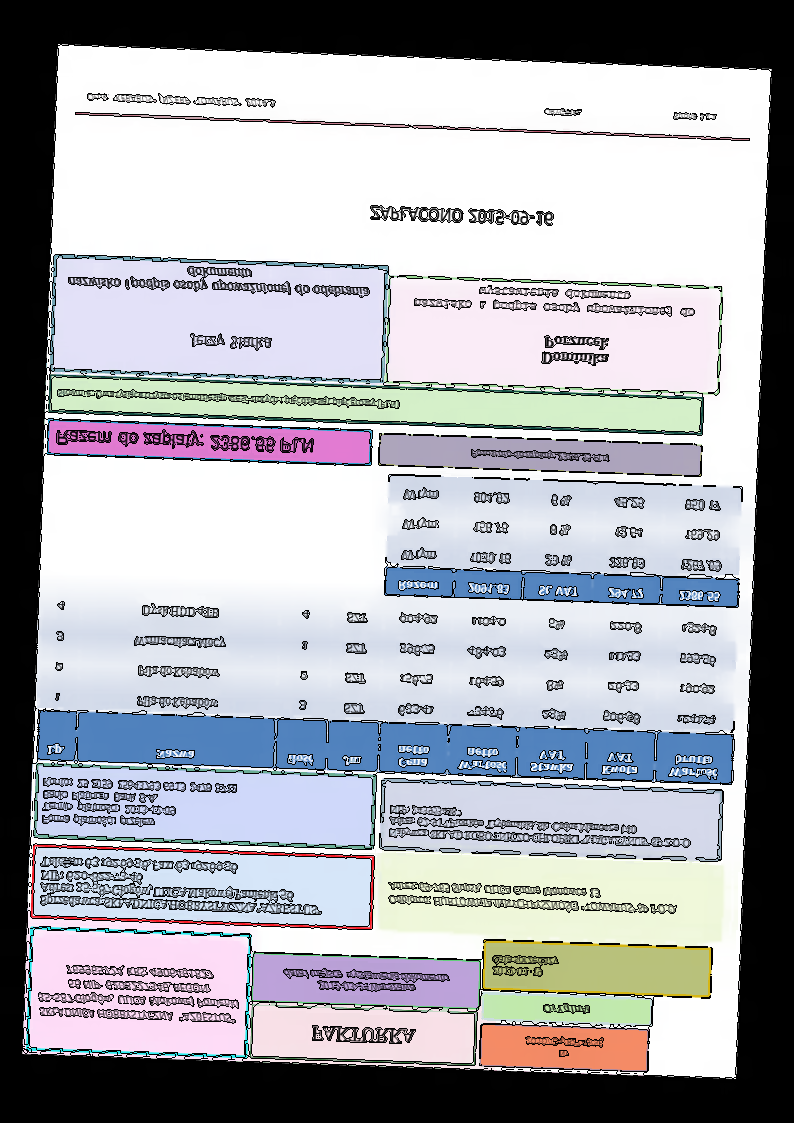Table: (35, 586, 740, 787), (382, 472, 744, 611)
TextBox: (36, 851, 327, 921), (385, 802, 695, 852), (33, 960, 243, 1027), (39, 773, 241, 835), (66, 260, 373, 300), (410, 281, 699, 322), (386, 878, 680, 918), (55, 384, 403, 413), (54, 427, 315, 457), (279, 965, 452, 998), (367, 203, 558, 230), (85, 89, 279, 112), (540, 104, 720, 126), (538, 331, 614, 370), (468, 446, 612, 466), (308, 1023, 416, 1048), (521, 1033, 606, 1063), (185, 329, 275, 355), (490, 952, 560, 982), (540, 1000, 592, 1020)
